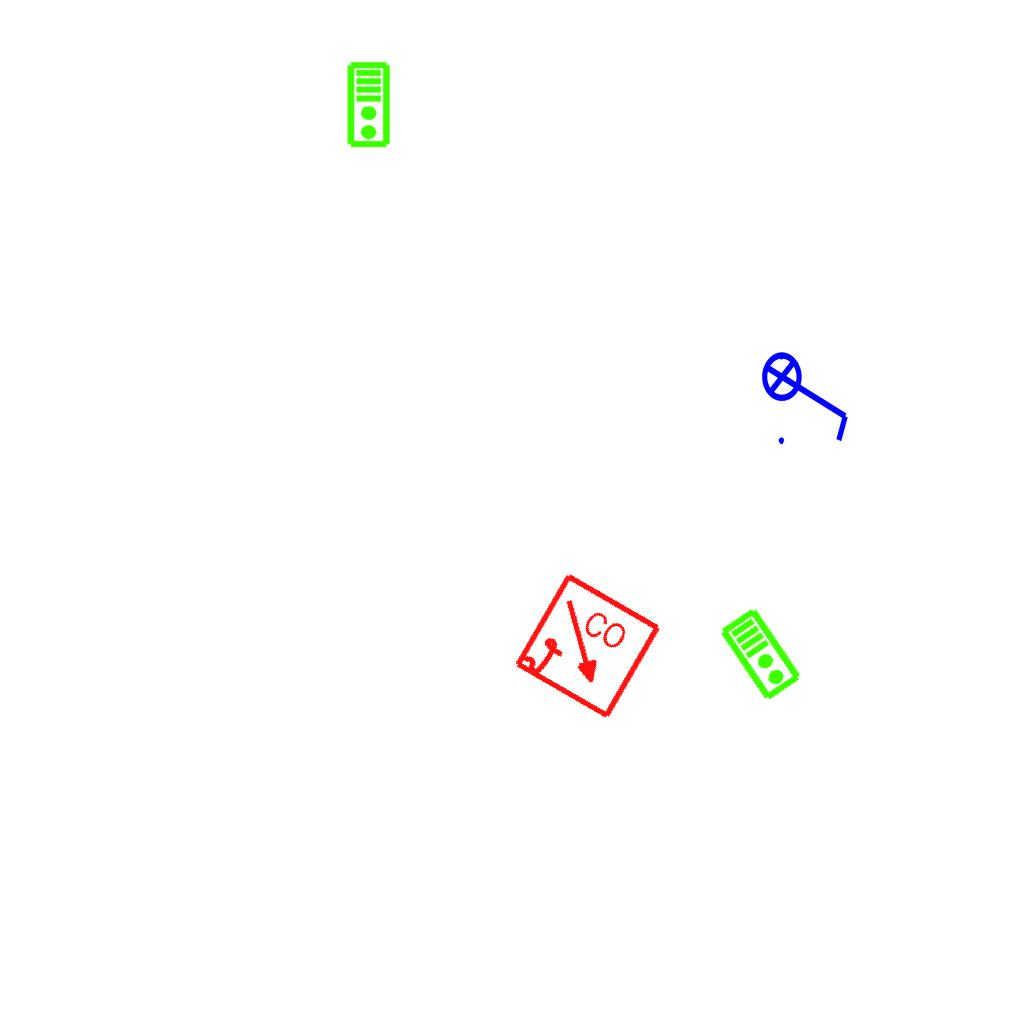Ausschalter_beleuchtet: (760, 338, 856, 450)
Gegensprechanlage_mit_Video: (717, 604, 806, 704), (346, 61, 393, 149)
ROA_Rauchmelder_optisch_mit_Signalgeber_(Sockelsirene): (510, 570, 665, 725)
